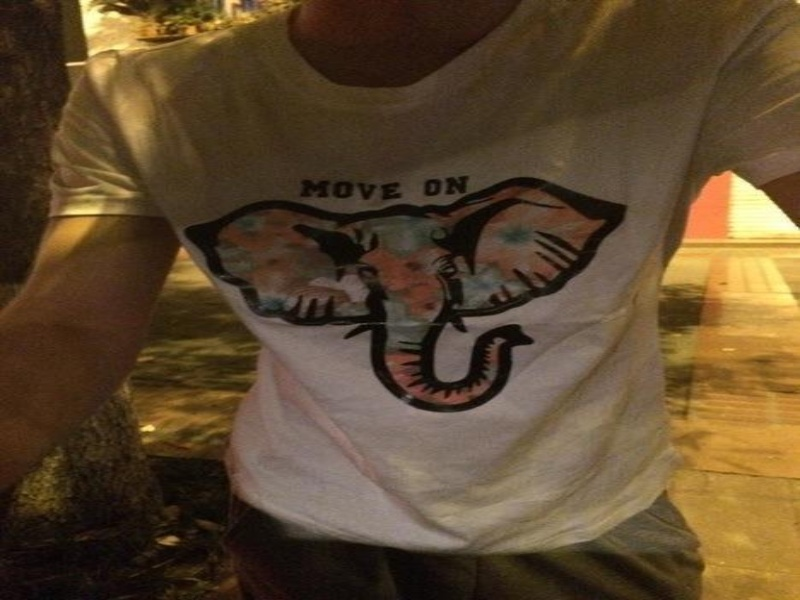short_sleeved_shirt: (36, 1, 798, 560)
trousers: (244, 473, 716, 598)
